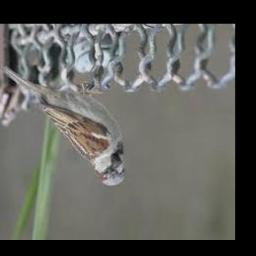Sparrow: (1, 63, 127, 187)
